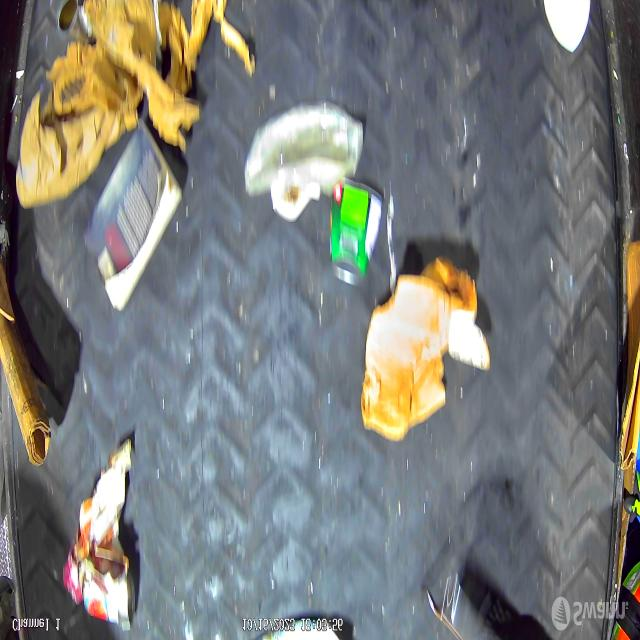can: (328, 184, 383, 281)
